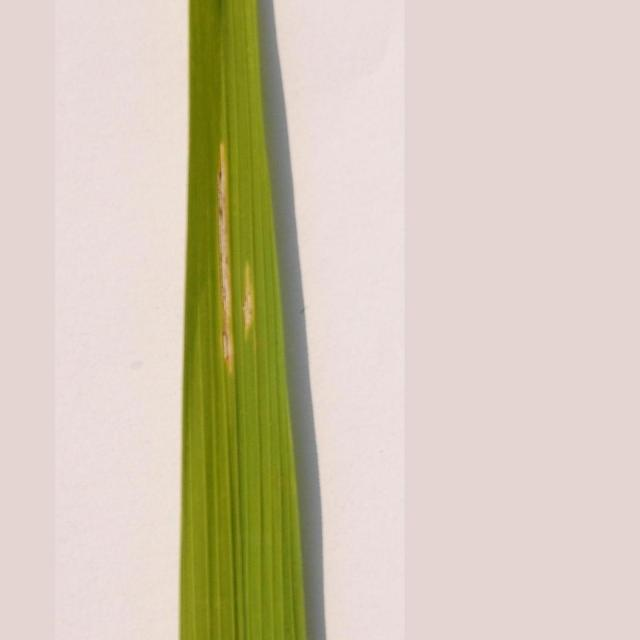leaf blight: (195, 132, 265, 378)
